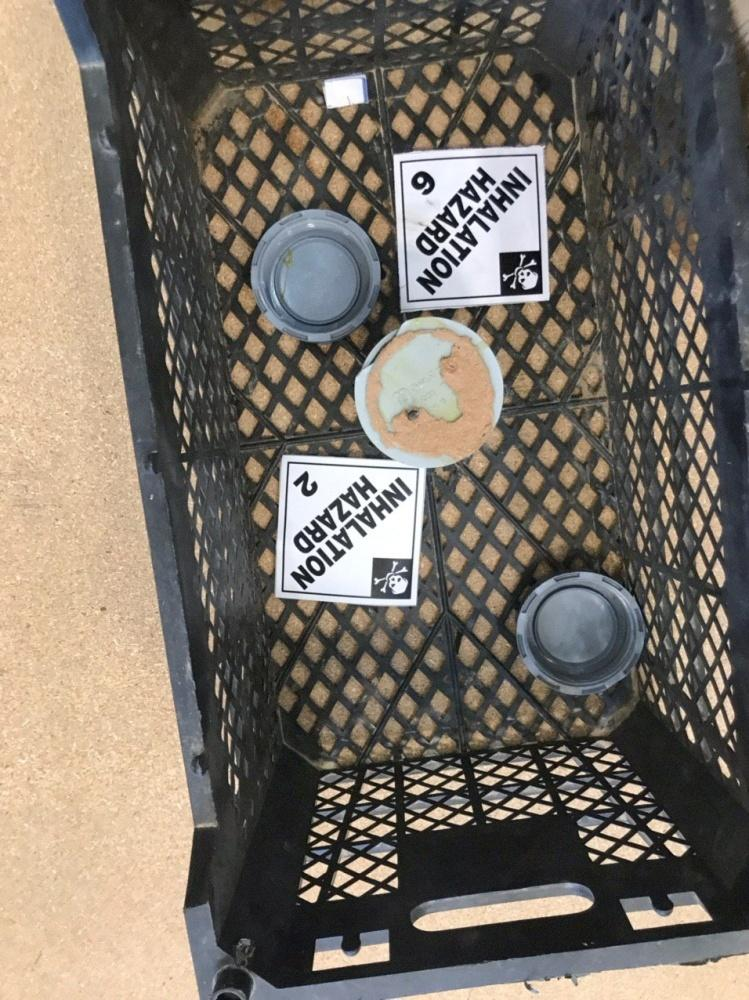poison: (398, 146, 552, 310), (277, 459, 426, 603)
